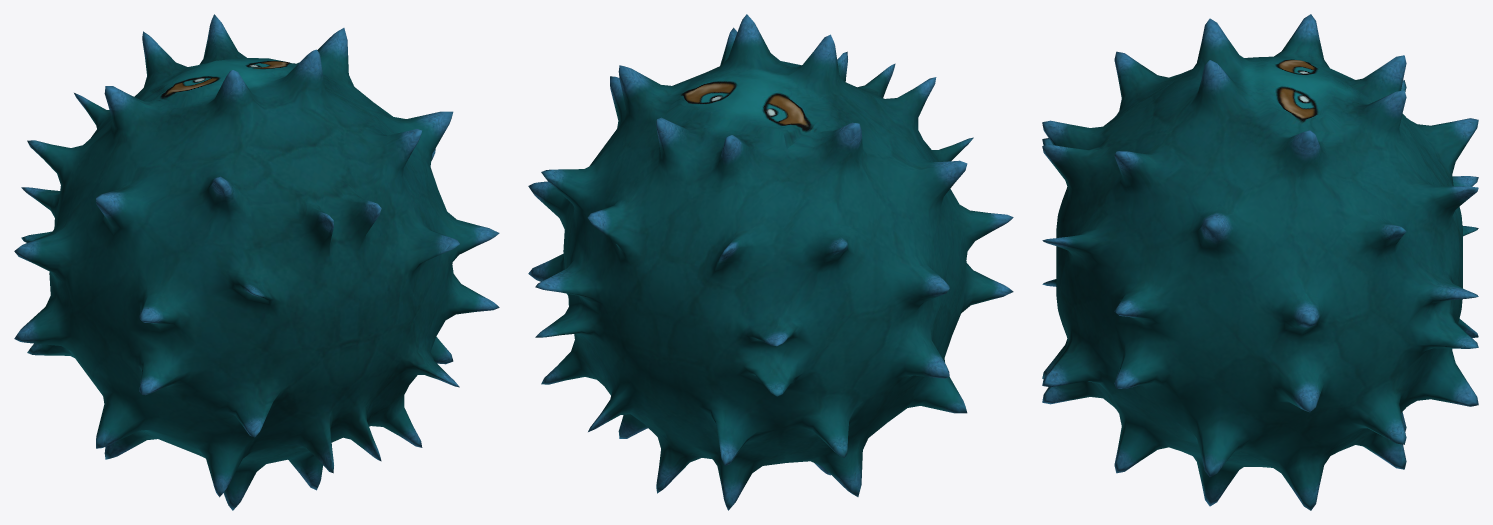
The model's file is boss.FBX.
The picture shows the model from 3 angles, left to right: view 1: azimuth 30°, elevation 25°; view 2: azimuth 150°, elevation 25°; view 3: azimuth 270°, elevation 25°; orthographic projection.
Parts seen in each view (by area): view 1: Sphere001; view 2: Sphere001; view 3: Sphere001.
Boxes of the visible parts, x1,y1,x2,y2 form: Sphere001: (14, 14, 499, 510); Sphere001: (528, 14, 1013, 510); Sphere001: (1042, 14, 1478, 510).
Size of the model in its own units: 243 by 243 by 215.
Materials: 1 (1 with a texture image).
